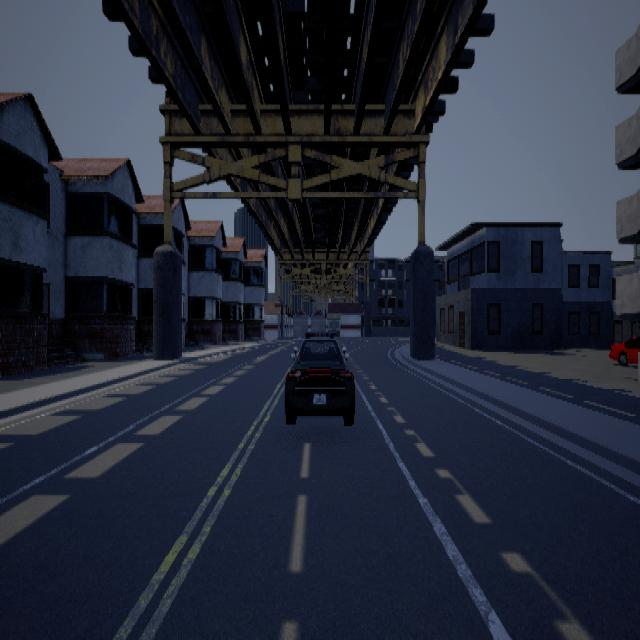vehicle: (284, 330, 354, 425), (608, 335, 639, 366)
